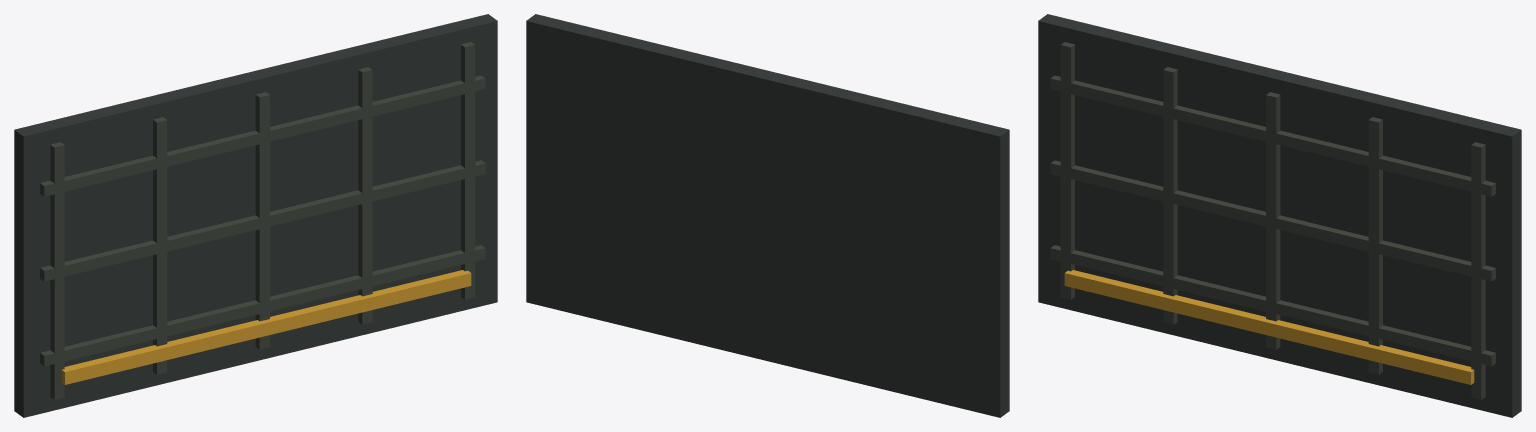
File: Bastion_FabricationHub_AssemblyDoor.obj
3 renders of one model, left to right at view 1: azimuth 30°, elevation 25°; view 2: azimuth 150°, elevation 25°; view 3: azimuth 330°, elevation 25°, orthographic.
Parts seen in each view (by area): view 1: Bastion_FabricationHub_AssemblyDoor; view 2: Bastion_FabricationHub_AssemblyDoor; view 3: Bastion_FabricationHub_AssemblyDoor.
Boxes of the visible parts, box(x1,y1,x2,y2) form: Bastion_FabricationHub_AssemblyDoor: box(14, 14, 497, 417); Bastion_FabricationHub_AssemblyDoor: box(526, 14, 1009, 417); Bastion_FabricationHub_AssemblyDoor: box(1038, 14, 1521, 417).
Size of the model in its own units: 4.62 by 2.62 by 0.285.
1 material, 1 textured.
